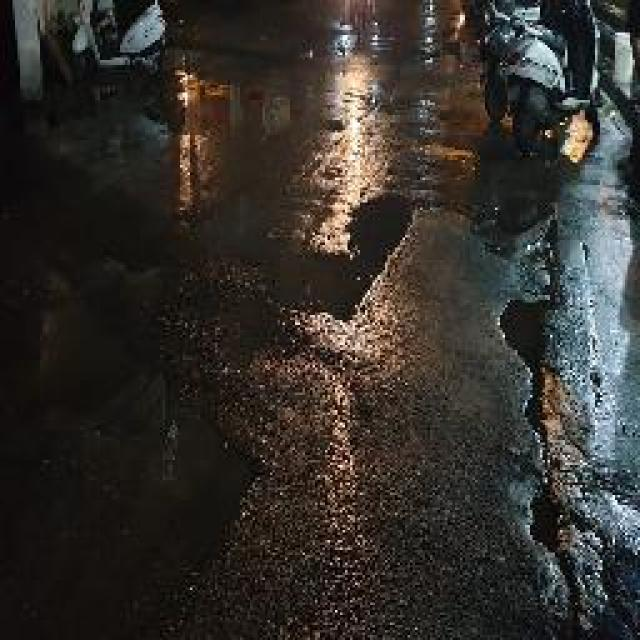stagnation: (71, 60, 311, 184), (249, 184, 429, 320), (508, 292, 564, 353)
